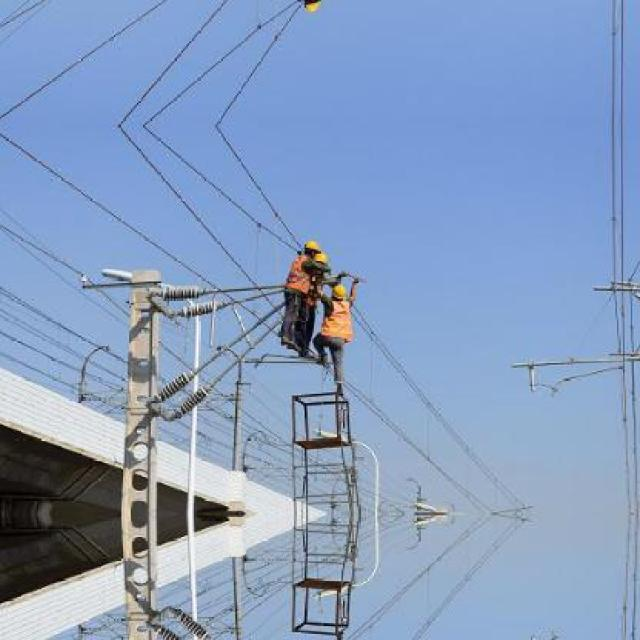helmet: (298, 236, 320, 259), (328, 280, 349, 302), (311, 248, 332, 269), (298, 0, 322, 14)
